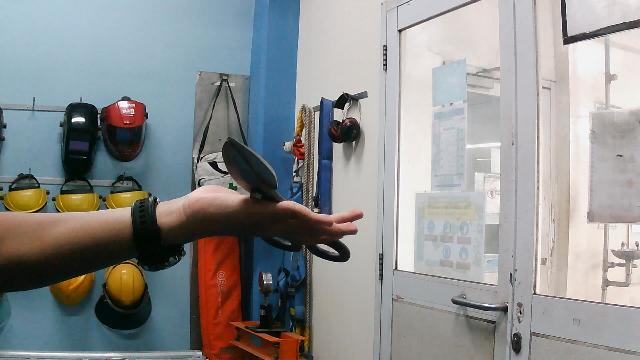gunting_plat: (218, 136, 354, 264)
